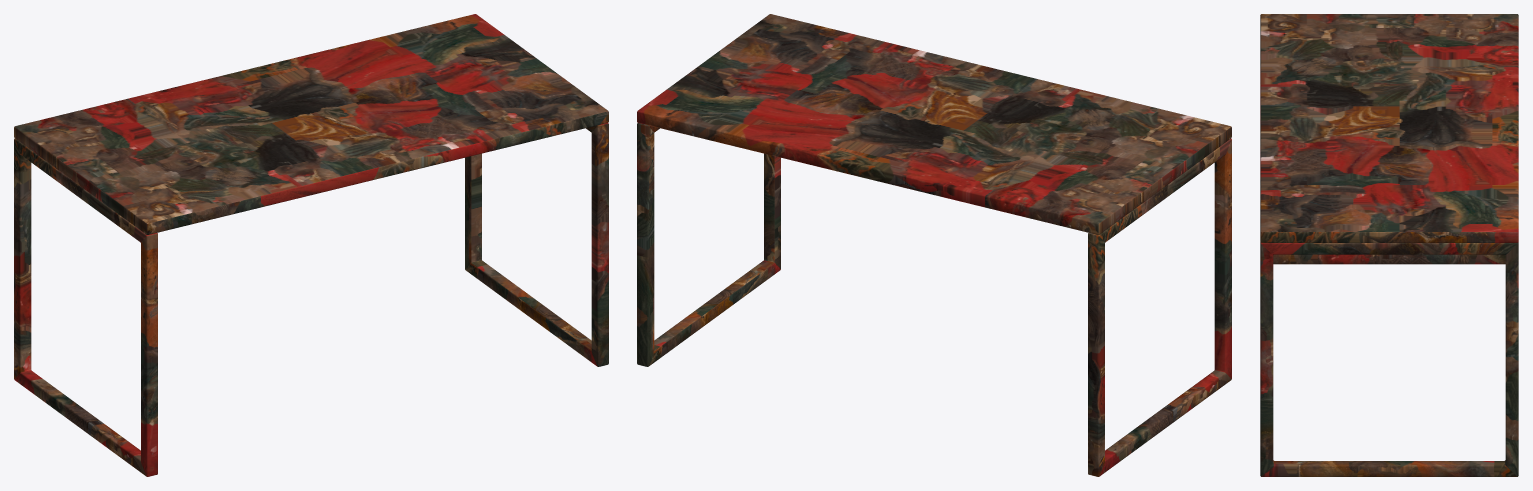
File: LongTable.fbx
3 renders of one model, left to right at view 1: azimuth 30°, elevation 25°; view 2: azimuth 150°, elevation 25°; view 3: azimuth 270°, elevation 25°, orthographic. The views are drawn at different scales.
Visible parts, largest first — view 1: Table; view 2: Table; view 3: Table.
Part boxes in pixels (box(x1,y1,x2,y2)): Table: box(14, 14, 608, 476); Table: box(637, 14, 1231, 476); Table: box(1260, 14, 1518, 476).
Bounding box in the file's own units: 200 × 105 × 100.
